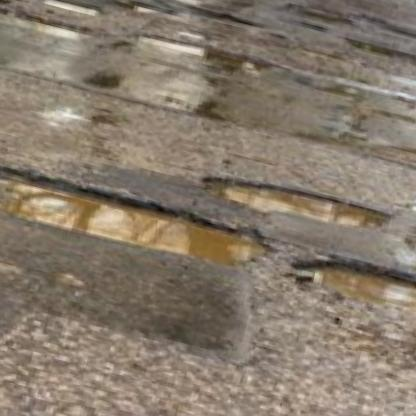pothole: (0, 152, 281, 282), (194, 162, 401, 246), (281, 246, 416, 336), (133, 22, 278, 78), (0, 0, 102, 51), (172, 0, 257, 30), (115, 0, 180, 25), (40, 0, 109, 21)
